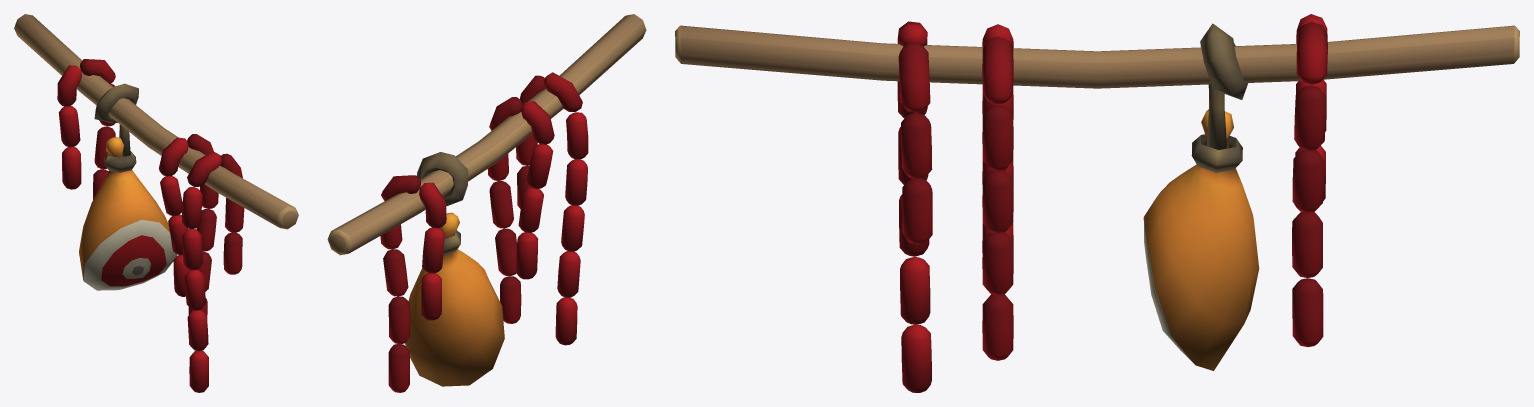
Rendered from tavern_hanging_meet.fbx.
3 renders of one model, left to right at view 1: azimuth 30°, elevation 25°; view 2: azimuth 150°, elevation 25°; view 3: azimuth 270°, elevation 25°, orthographic. The views are drawn at different scales.
Visible parts, largest first — view 1: tavern_hanging_meet_LOD0; view 2: tavern_hanging_meet_LOD0; view 3: tavern_hanging_meet_LOD0.
Part boxes in pixels (x1,y1,x2,y2): tavern_hanging_meet_LOD0: (14, 14, 298, 392); tavern_hanging_meet_LOD0: (327, 14, 646, 392); tavern_hanging_meet_LOD0: (675, 14, 1519, 392).
Size of what is drawn, in the model's own units: 59.44 by 155 by 312.
